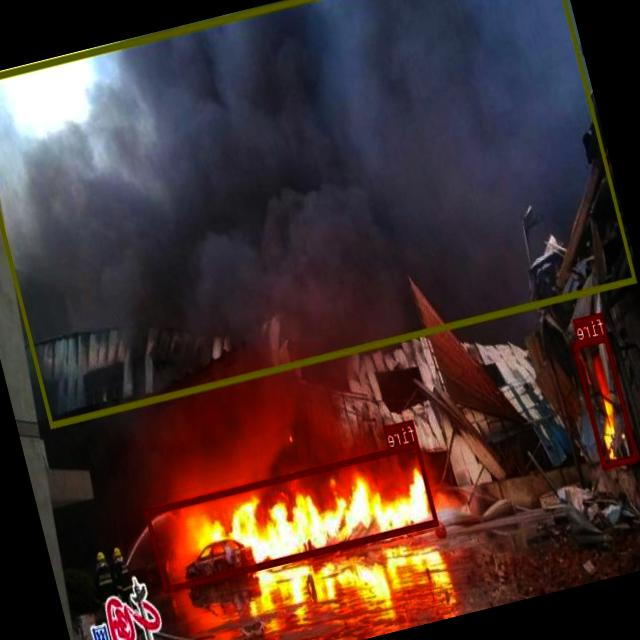fire: (144, 440, 438, 591), (572, 332, 638, 468)
smoke: (0, 0, 637, 426)
